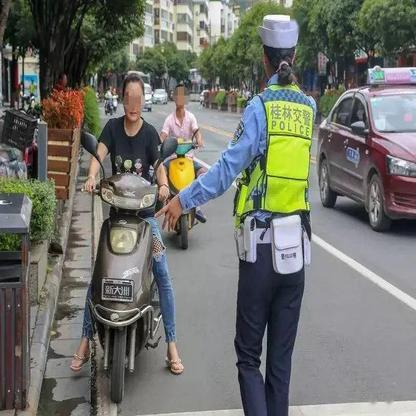target: (74, 74, 183, 404)
